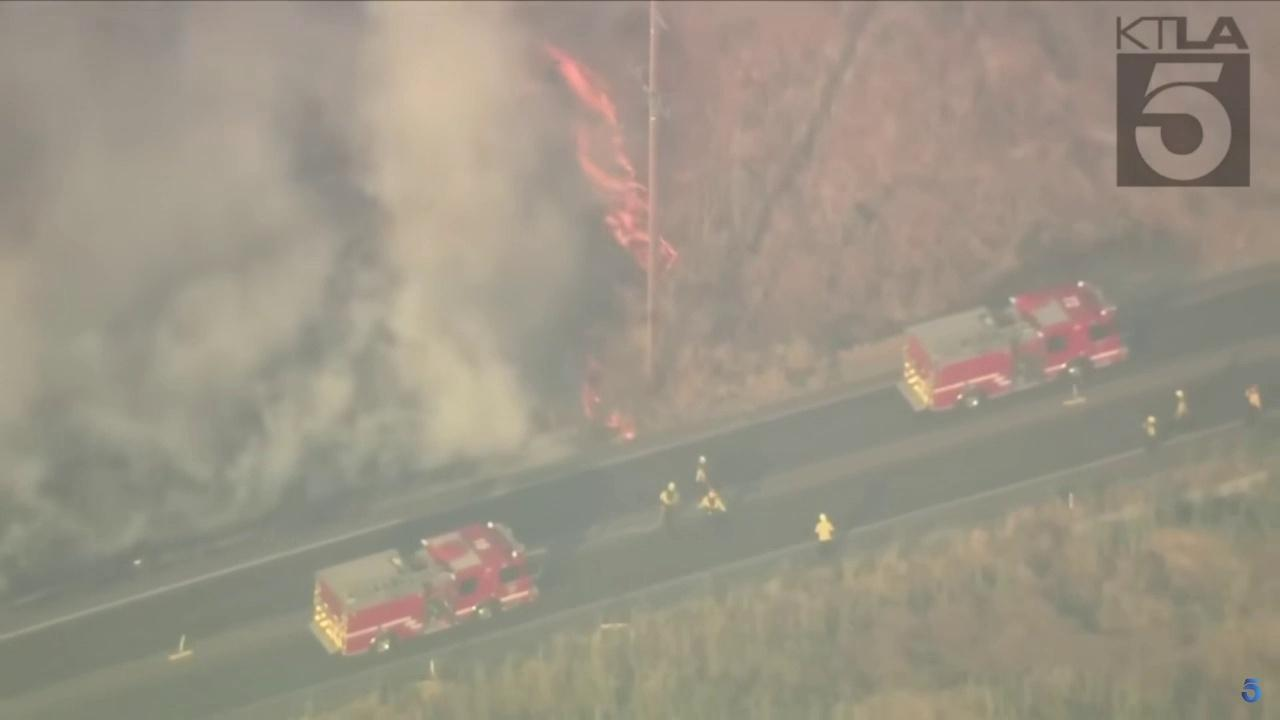fire: (544, 43, 681, 274), (582, 378, 604, 419), (608, 411, 637, 440)
smoke: (0, 0, 649, 548)
